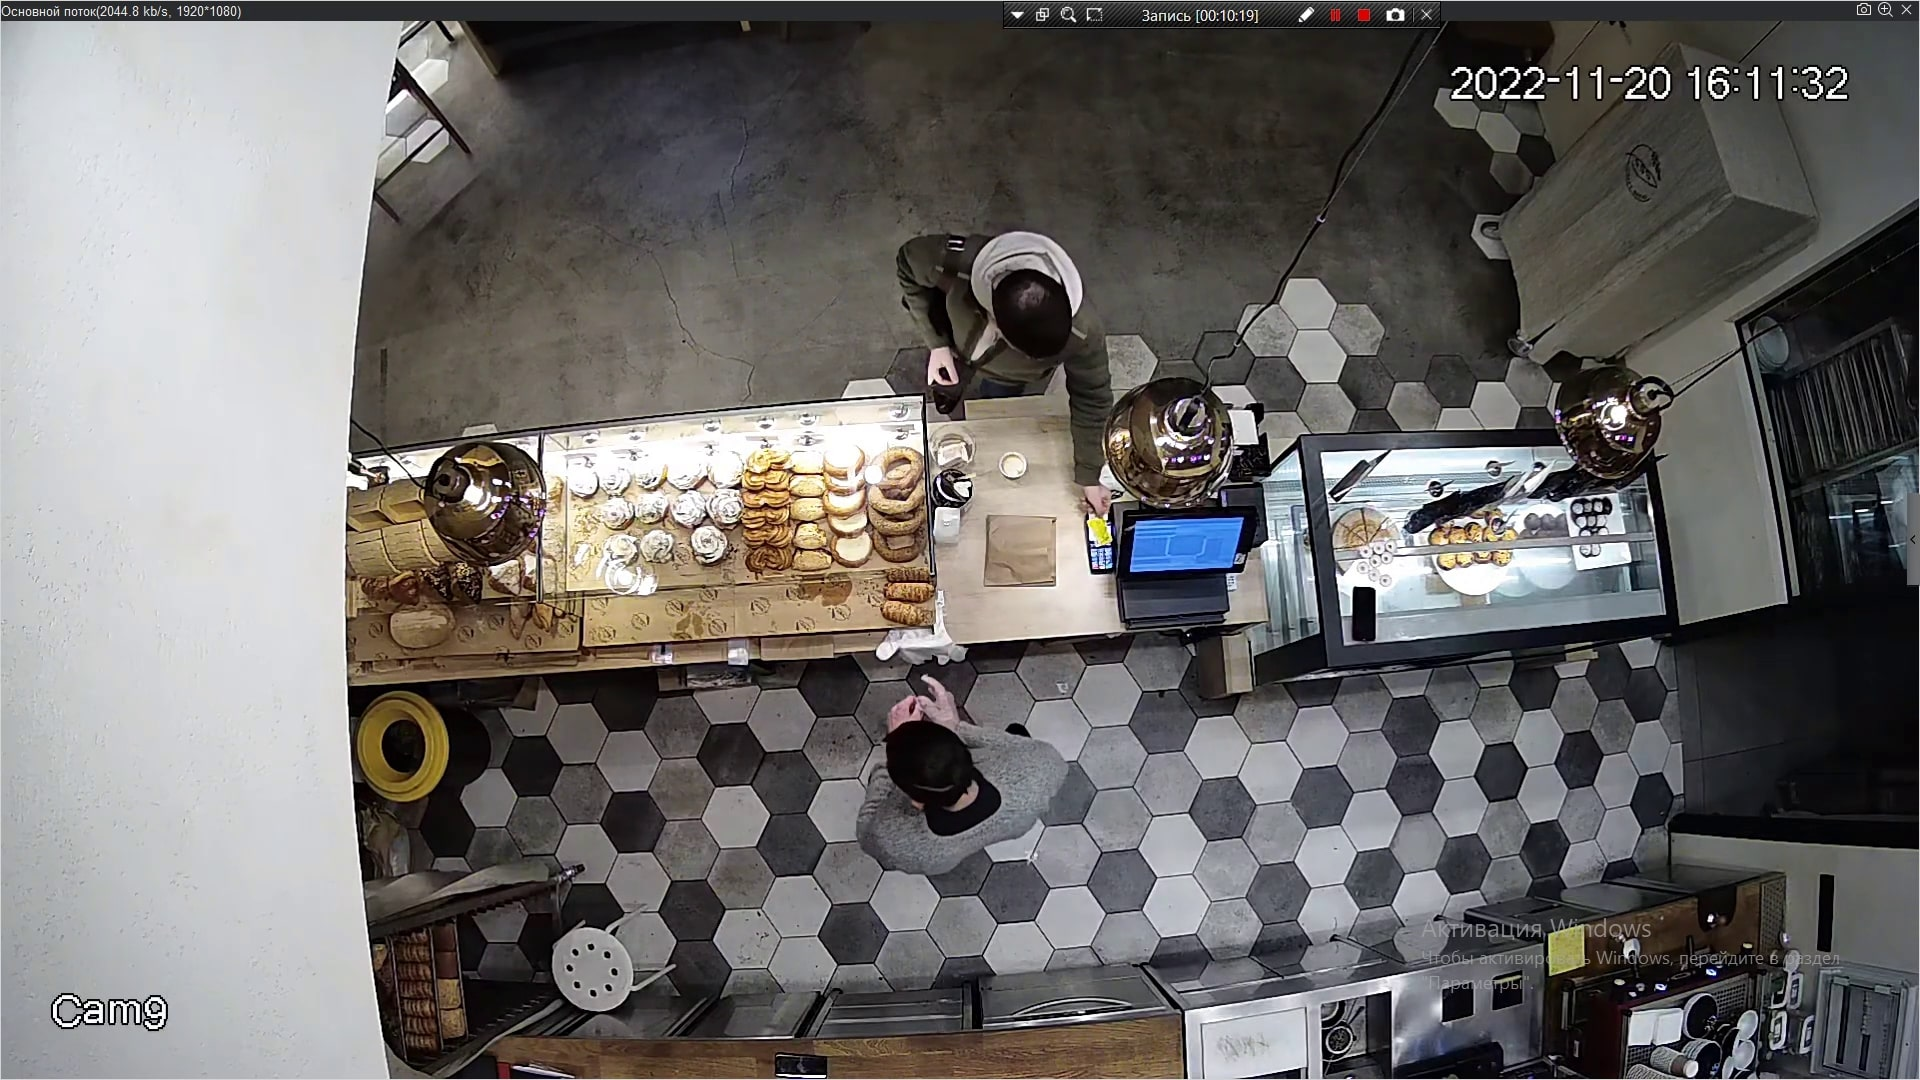coffee: (996, 455, 1030, 477)
pack: (980, 516, 1064, 593)
person: (877, 223, 1118, 396)
terminal: (1079, 461, 1123, 575)
